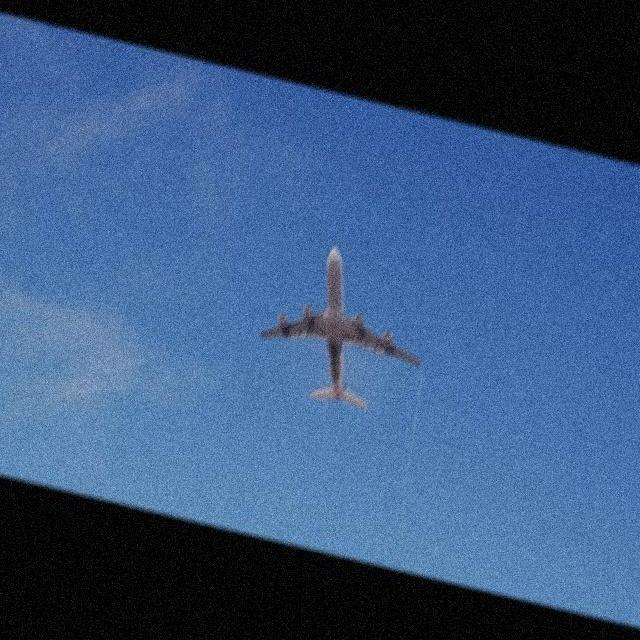airplane: (257, 244, 422, 409)
